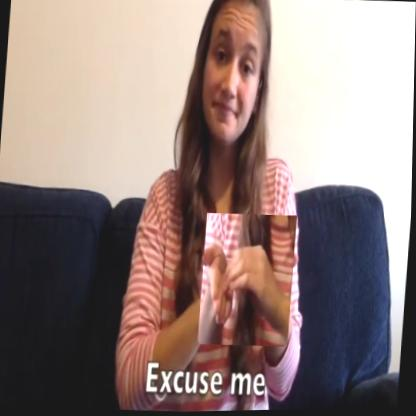ExcuseMe: (199, 212, 298, 349)
